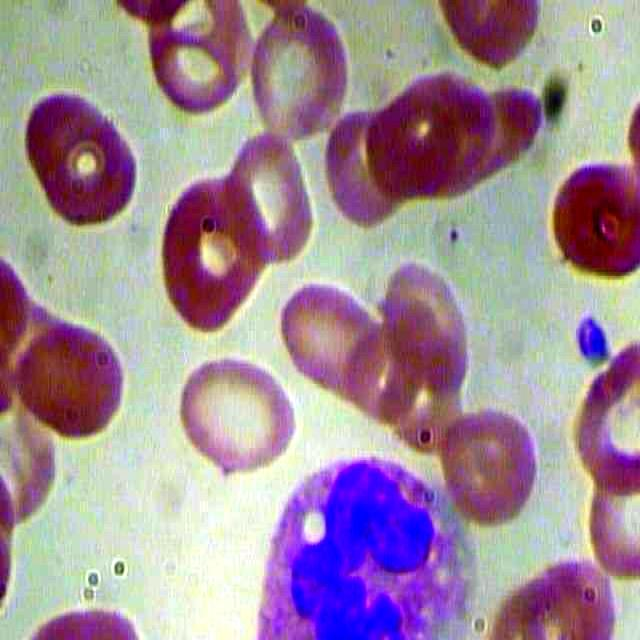Platelets: (567, 312, 619, 369)
RBC: (148, 172, 277, 335), (164, 348, 297, 485), (15, 88, 148, 225), (273, 264, 383, 412), (239, 4, 354, 143), (13, 312, 132, 444), (542, 146, 640, 286), (441, 390, 539, 530), (363, 92, 466, 213), (382, 253, 469, 395)
WBC: (250, 457, 487, 640)
